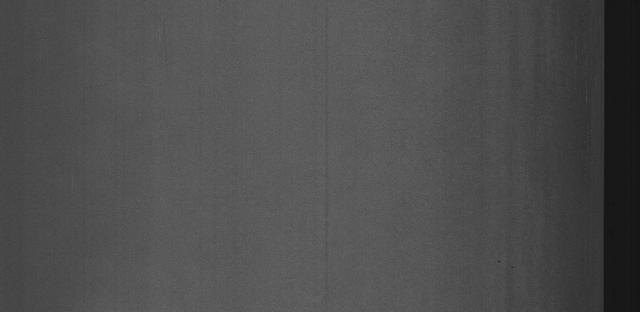inclusion: (492, 254, 519, 275)
